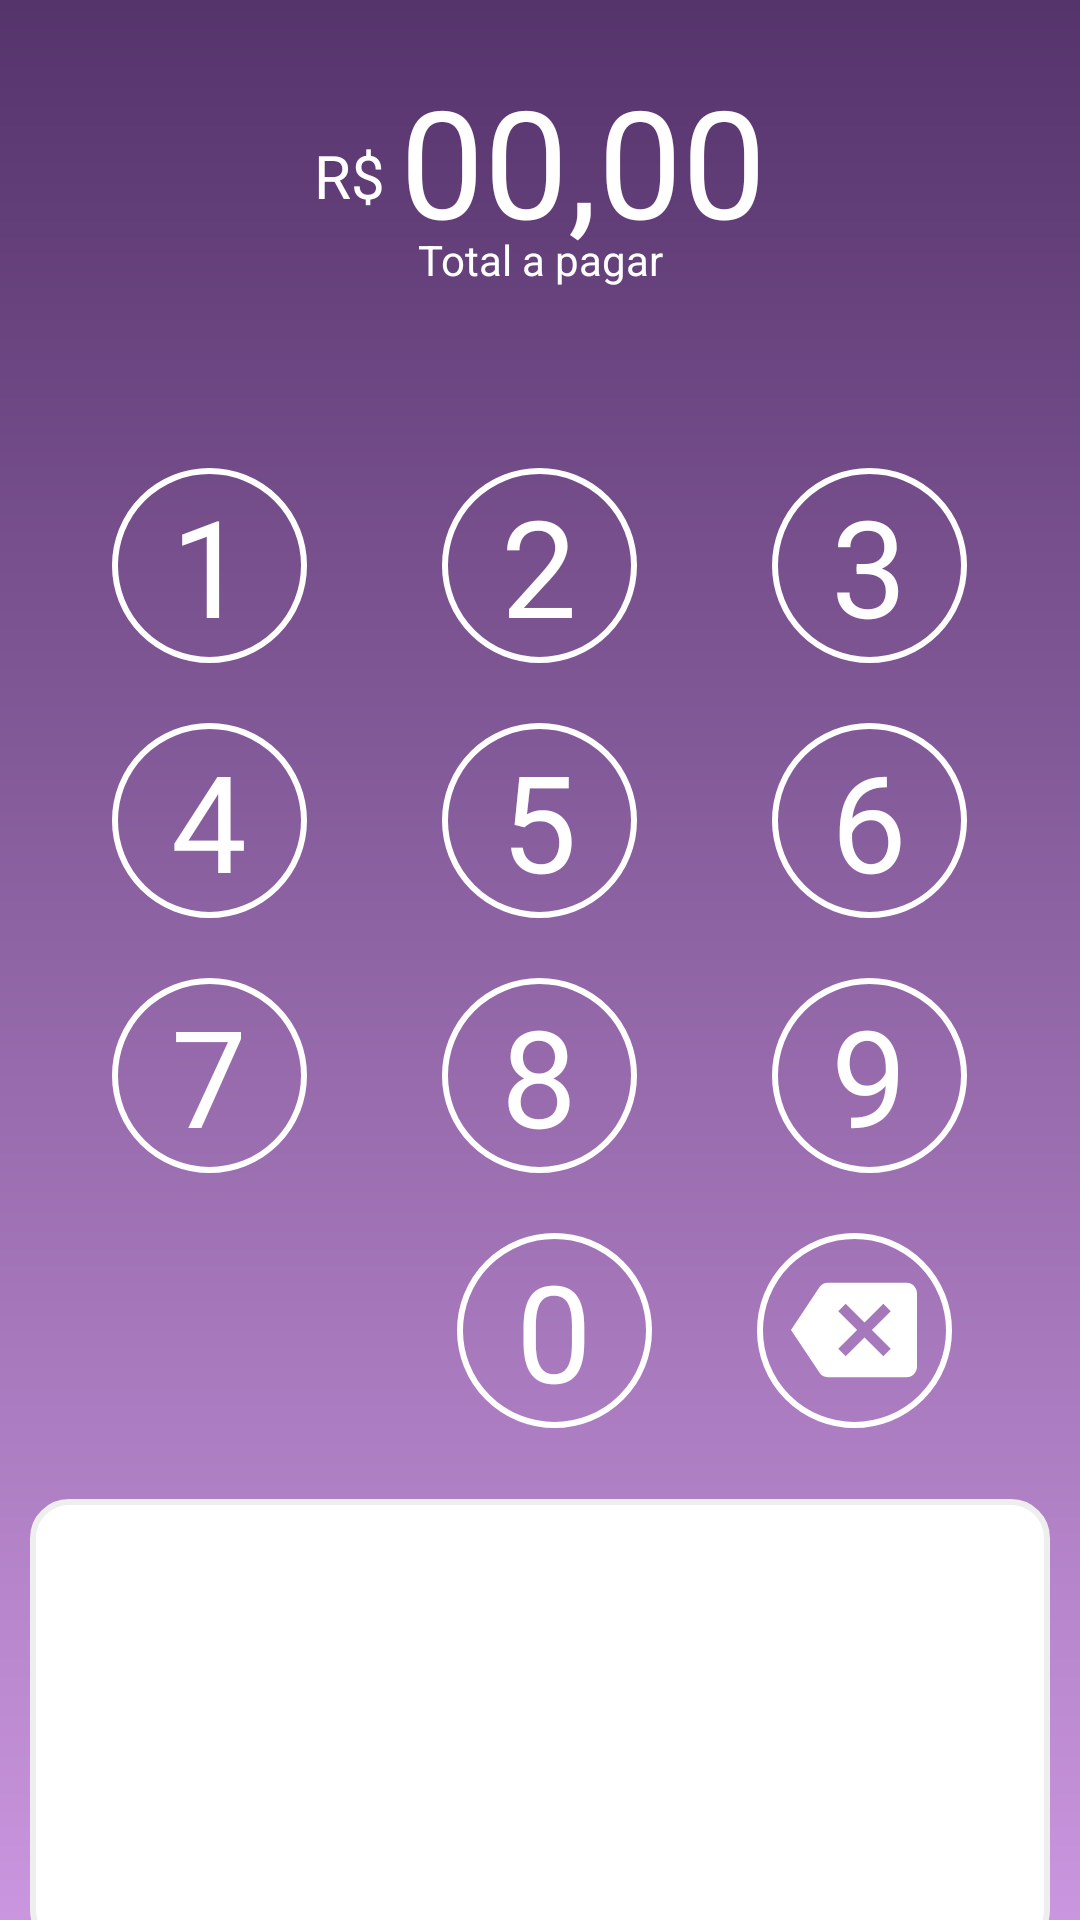

Screen size 1080px×1920px. Icon name, then its center in pixels as (x,y):
backspace: (854,1330)
